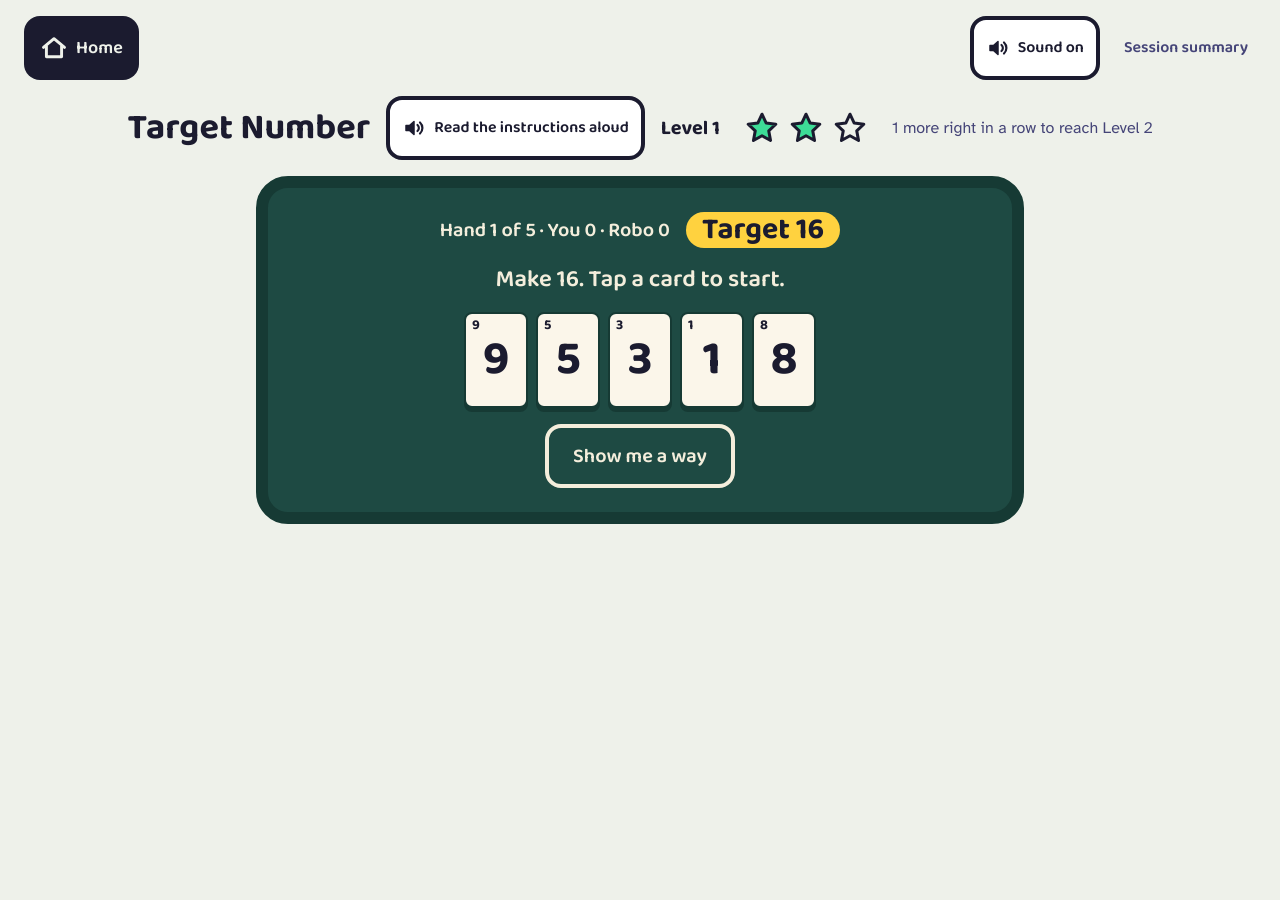
Scenario: a card that would take the total below 0 cannot be chosen
The width and height of the screenshot is (1280, 900).
Click the button named "Card 1": [712, 360] box x1=680 y1=312 x2=744 y2=408
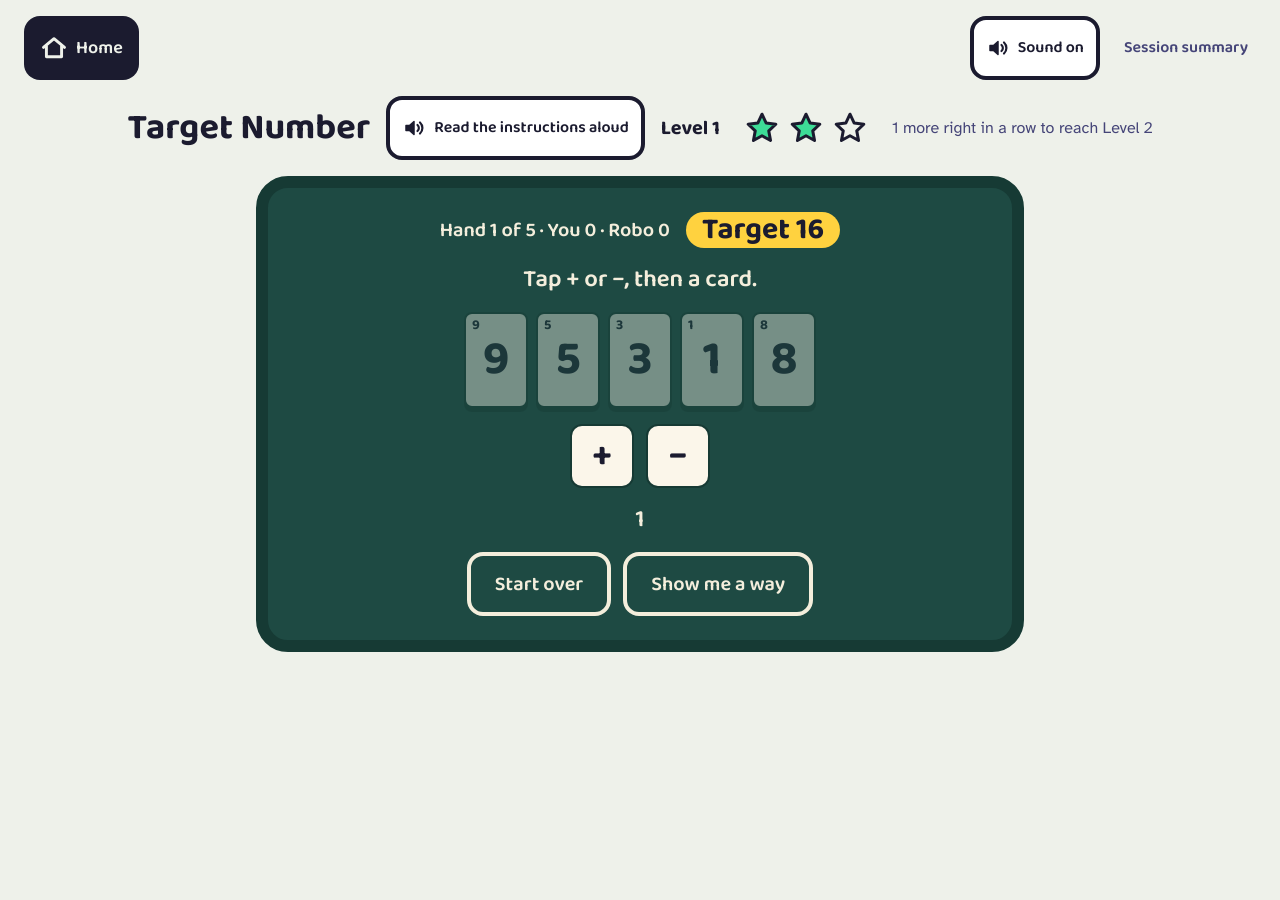
Click the button named "Minus": [678, 456] box x1=646 y1=424 x2=710 y2=488
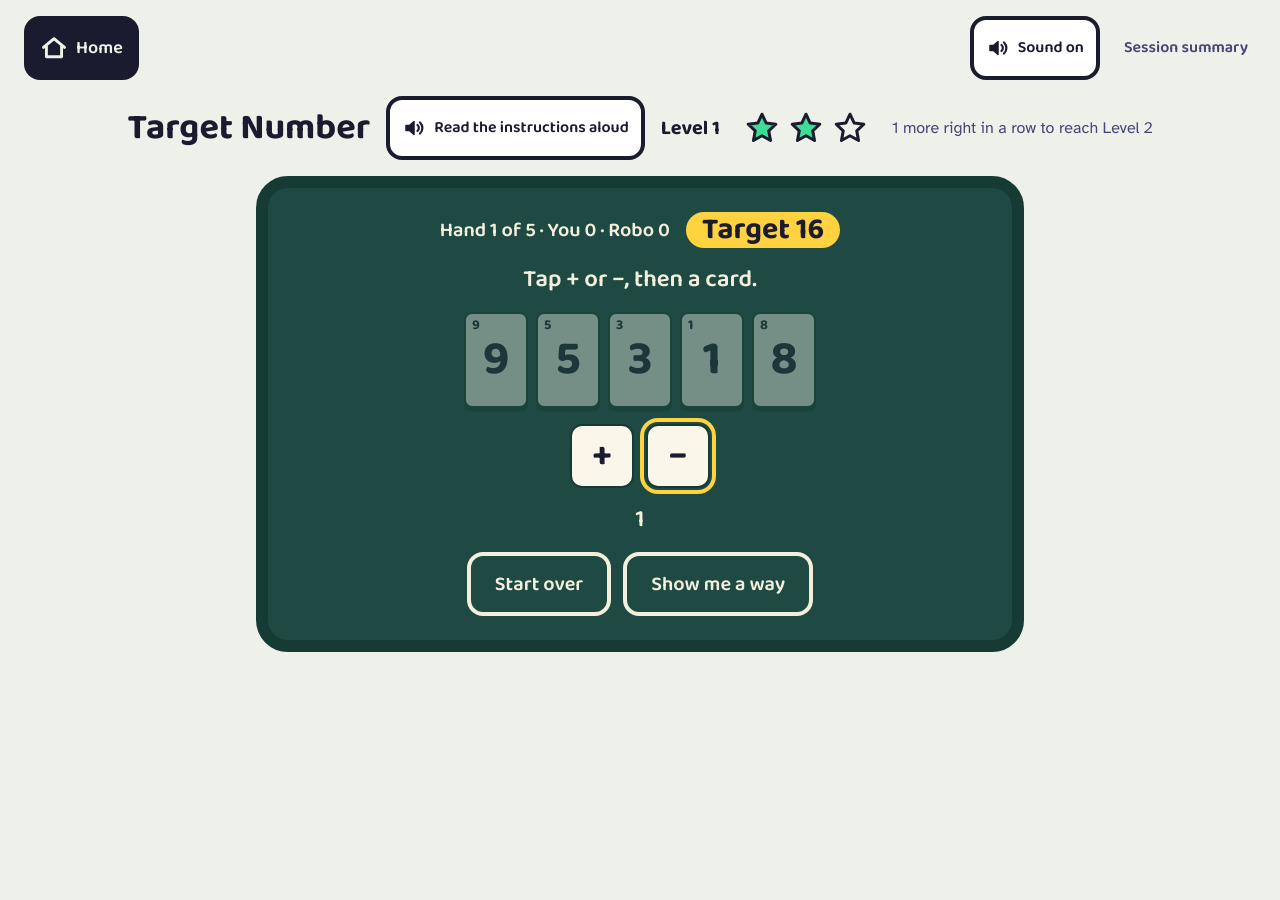
Check: the button named "Card 3" is disabled, box x1=608 y1=312 x2=672 y2=408
Check: the button named "Card 1" is disabled, box x1=680 y1=312 x2=744 y2=408
Click the button named "Plus": [602, 456] box x1=570 y1=424 x2=634 y2=488
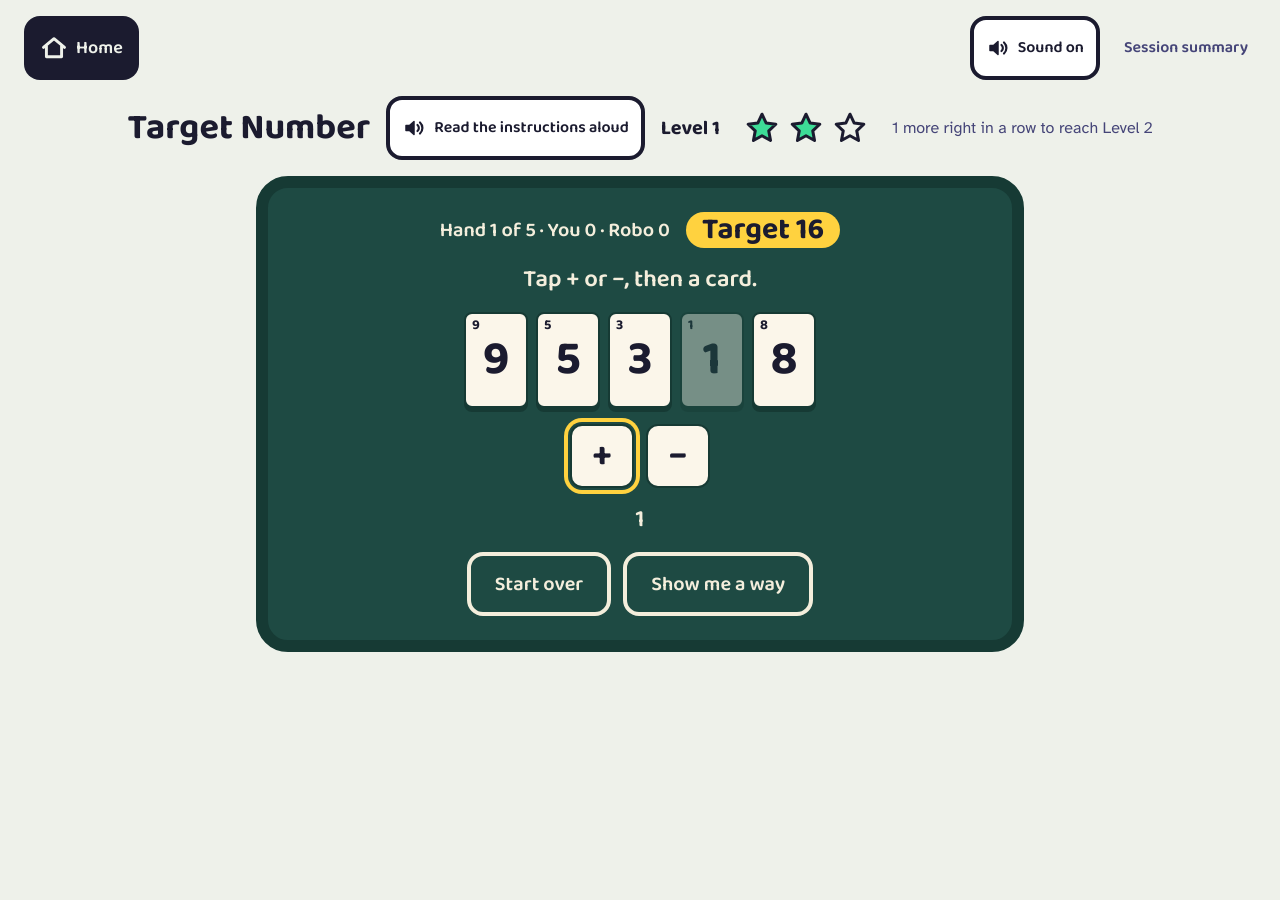
Check: the button named "Card 3" is enabled, box x1=608 y1=312 x2=672 y2=408
